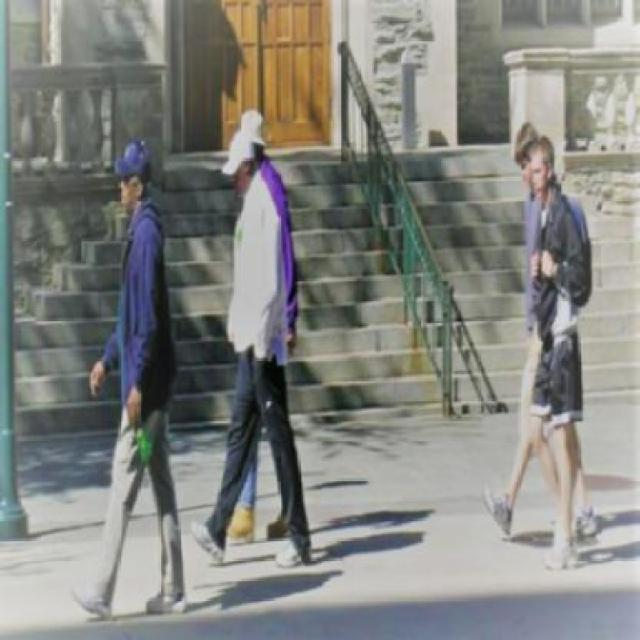Person: (68, 138, 189, 620), (195, 135, 314, 573), (523, 135, 586, 577)
